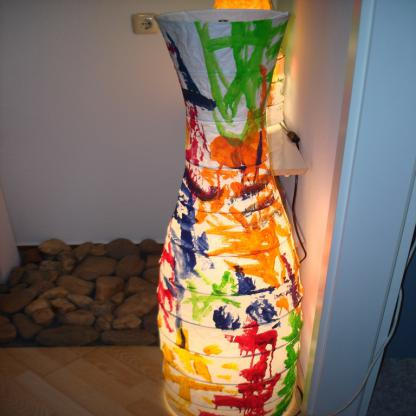vase: (154, 10, 304, 416)
